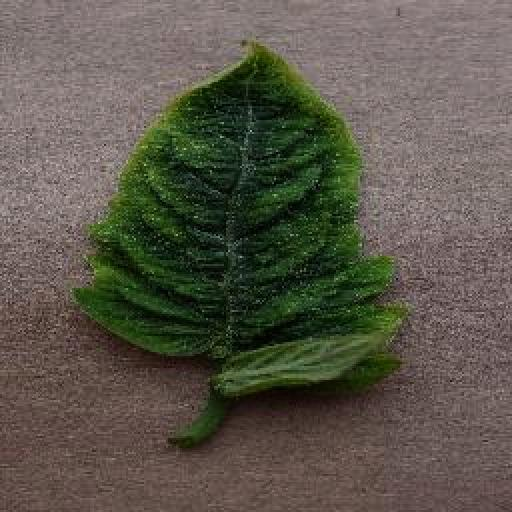disease_tomato: (74, 37, 408, 399)
